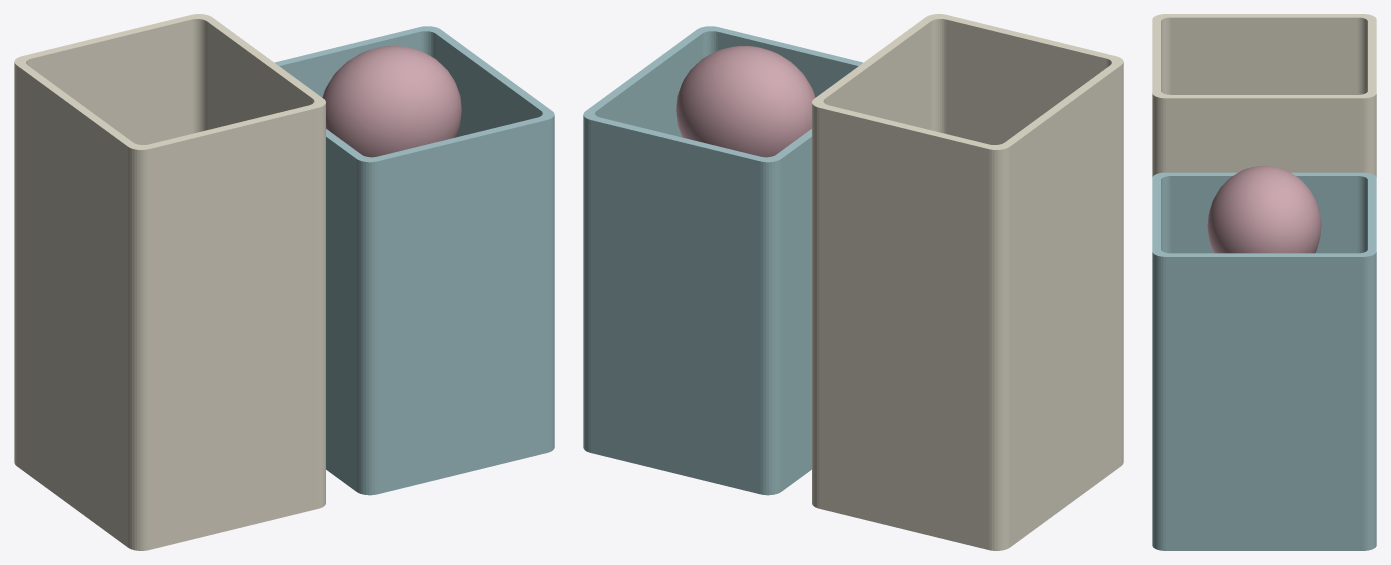
File: pastel-catchalls.glb
3 views of the same model, side by side, from view 1: azimuth 30°, elevation 25°; view 2: azimuth 150°, elevation 25°; view 3: azimuth 270°, elevation 25° (orthographic). The views are drawn at different scales.
Parts seen in each view (by area): view 1: pastel-catchalls; view 2: pastel-catchalls; view 3: pastel-catchalls.
Boxes of the visible parts, x1=… form: pastel-catchalls: x1=14, y1=14, x2=554, y2=550; pastel-catchalls: x1=583, y1=14, x2=1123, y2=550; pastel-catchalls: x1=1152, y1=14, x2=1376, y2=550.
Bounding box in the file's own units: 0.27 × 0.2479 × 0.14.
